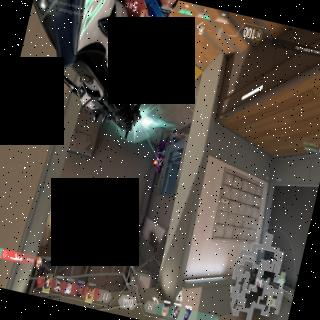ENEMY-BODY: (152, 130, 170, 174)
ENEMY-HEAD: (155, 163, 159, 170)
